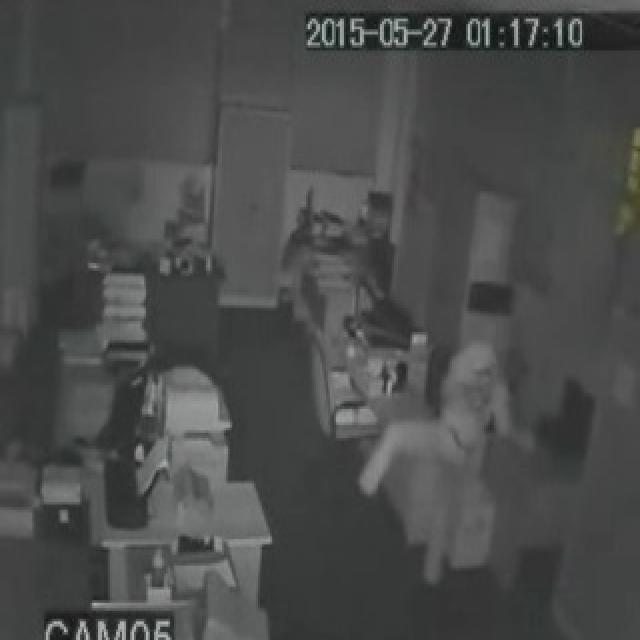thief: (432, 330, 514, 445)
